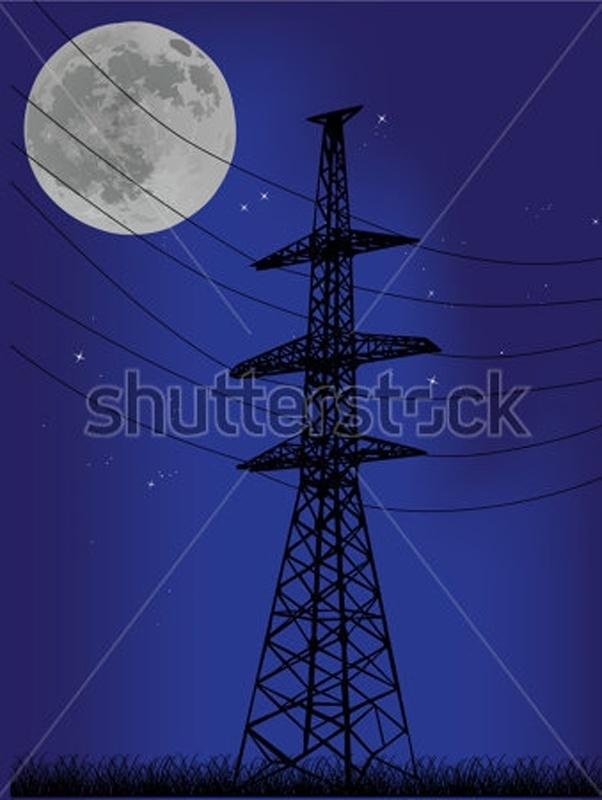power_tower: (267, 101, 404, 735)
